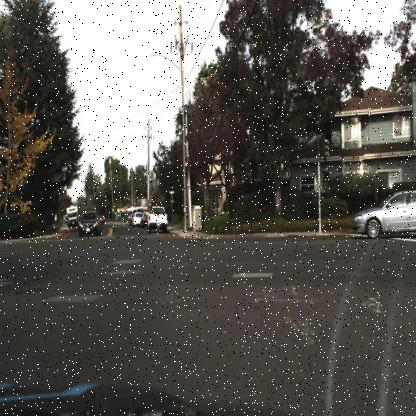car: (354, 183, 416, 243), (146, 204, 168, 233), (78, 211, 99, 237)
trafficLight-Red: (183, 154, 191, 178), (184, 156, 190, 183)
truck: (66, 204, 79, 226)
